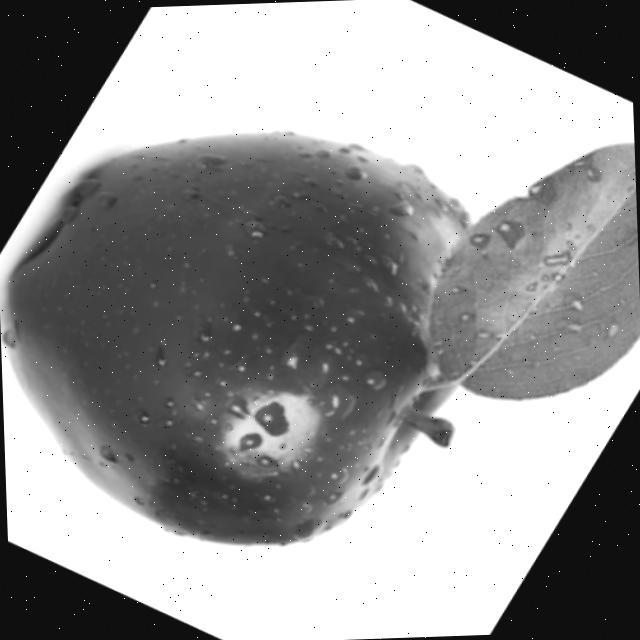Ripe: (0, 117, 483, 562)
